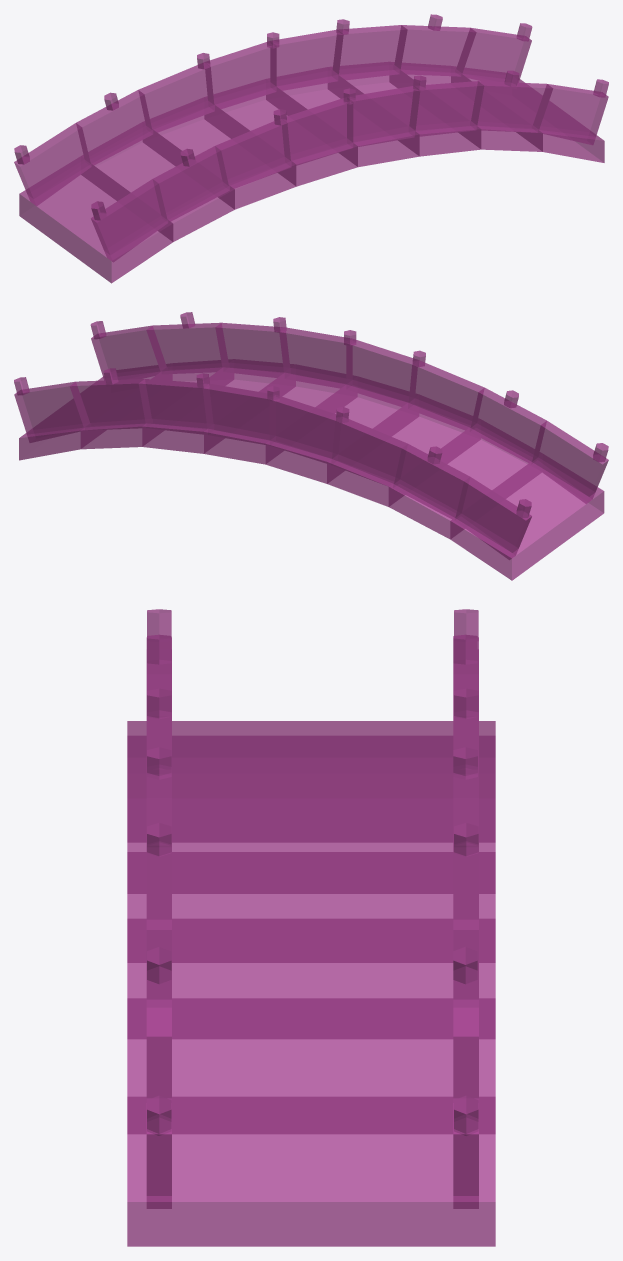
Rendered from SM_Bld_Bridge_01_Collision_01.fbx.
The picture shows the model from 3 angles, top to bottom: view 1: azimuth 30°, elevation 25°; view 2: azimuth 150°, elevation 25°; view 3: azimuth 270°, elevation 25°; orthographic projection. The views are drawn at different scales.
Parts seen in each view (by area): view 1: SM_Bld_Bridge_01_Collision_01; view 2: SM_Bld_Bridge_01_Collision_01; view 3: SM_Bld_Bridge_01_Collision_01.
Boxes of the visible parts, box(x1,y1,x2,y2) form: SM_Bld_Bridge_01_Collision_01: box(14, 14, 608, 283); SM_Bld_Bridge_01_Collision_01: box(14, 312, 608, 580); SM_Bld_Bridge_01_Collision_01: box(127, 609, 495, 1246).
Bounding box in the file's own units: 1601 × 373 × 494.
